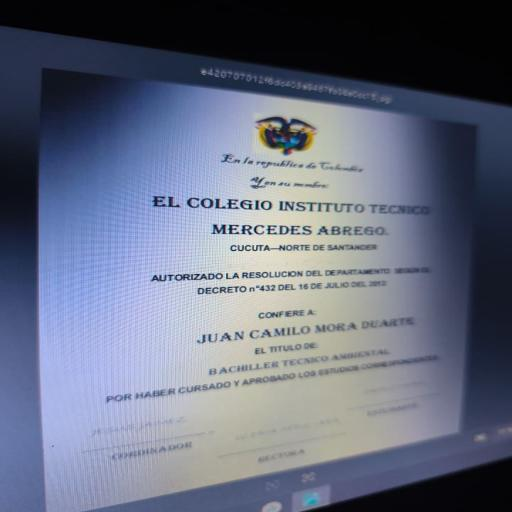diploma: (45, 69, 476, 512)
escudo: (228, 107, 320, 156)
firma: (52, 408, 213, 452), (341, 376, 450, 415)
institucion: (140, 190, 479, 239)
nombre: (185, 307, 469, 355)
